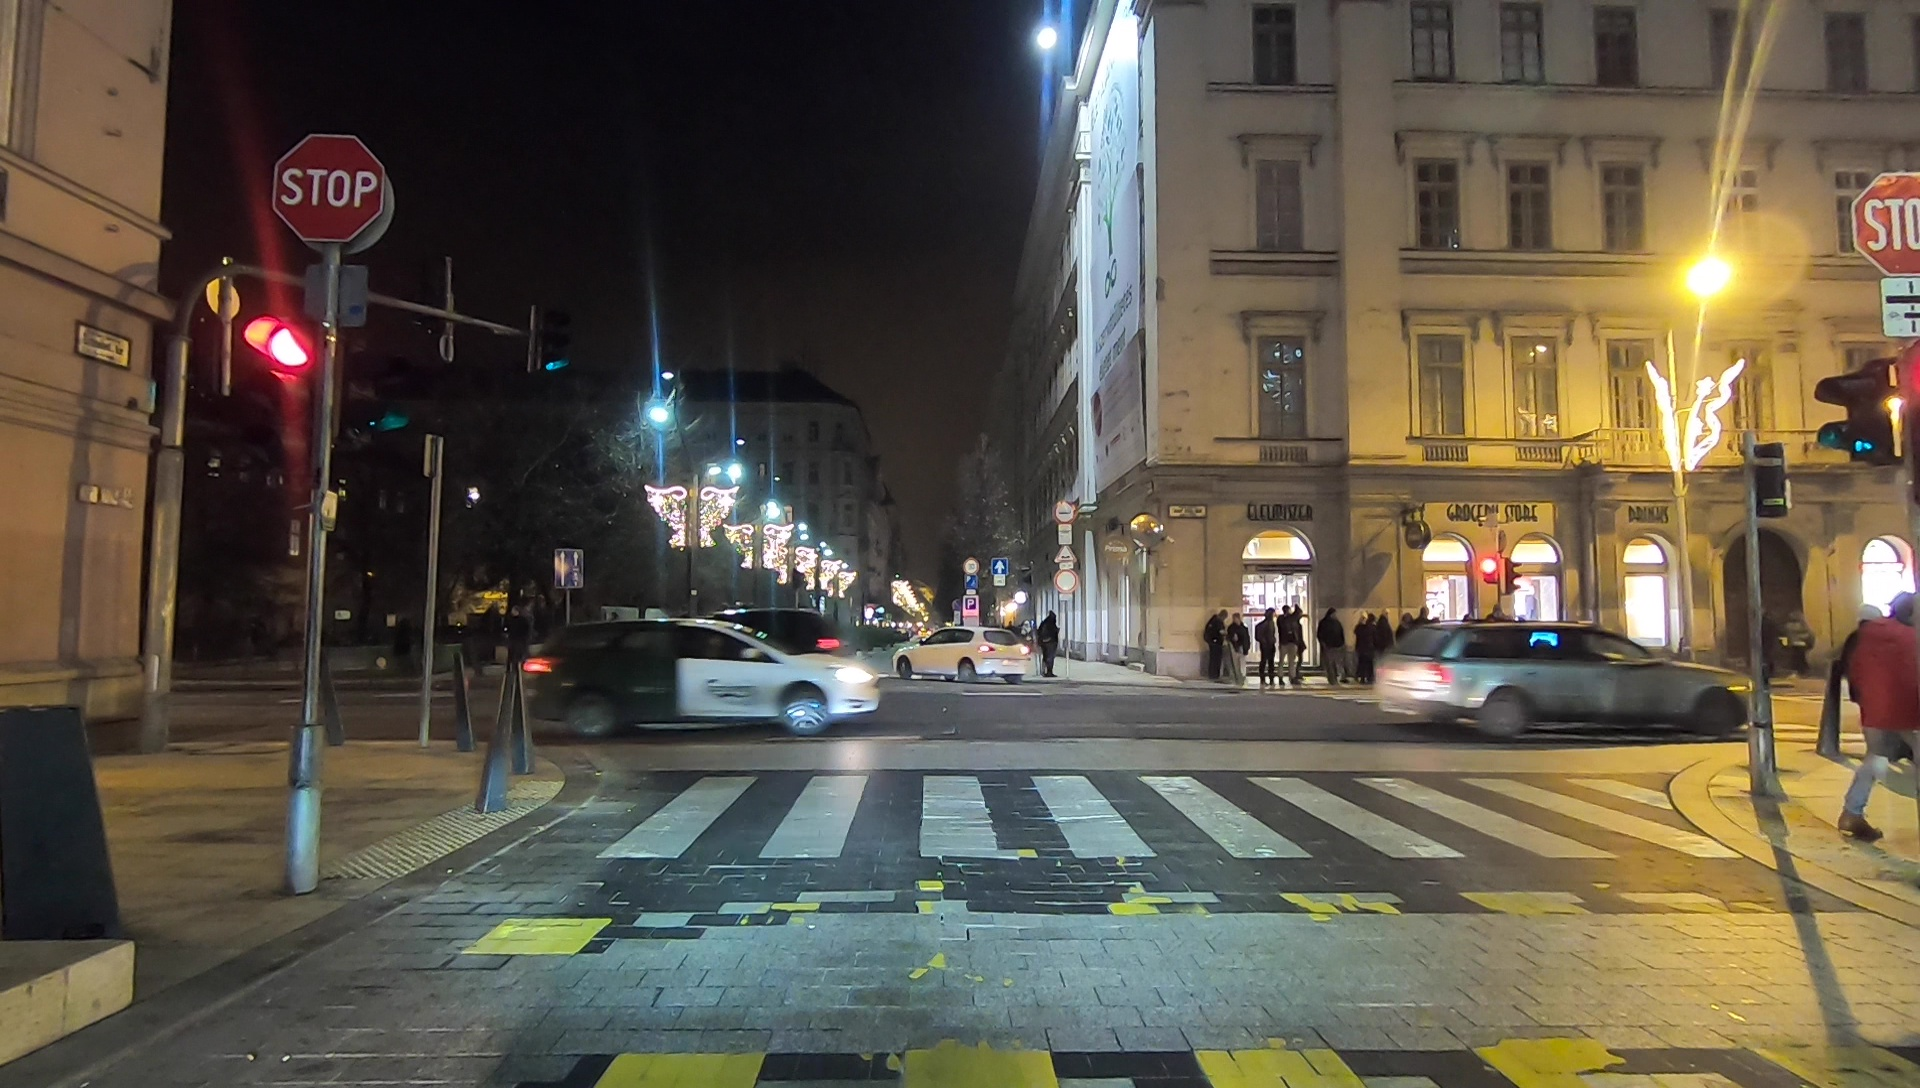person: (1841, 599, 1920, 843), (1252, 604, 1276, 697), (1319, 606, 1345, 686), (1276, 608, 1297, 691), (1351, 611, 1373, 687), (1225, 613, 1247, 678), (1206, 610, 1225, 680), (1373, 608, 1389, 686), (1041, 615, 1060, 674)
